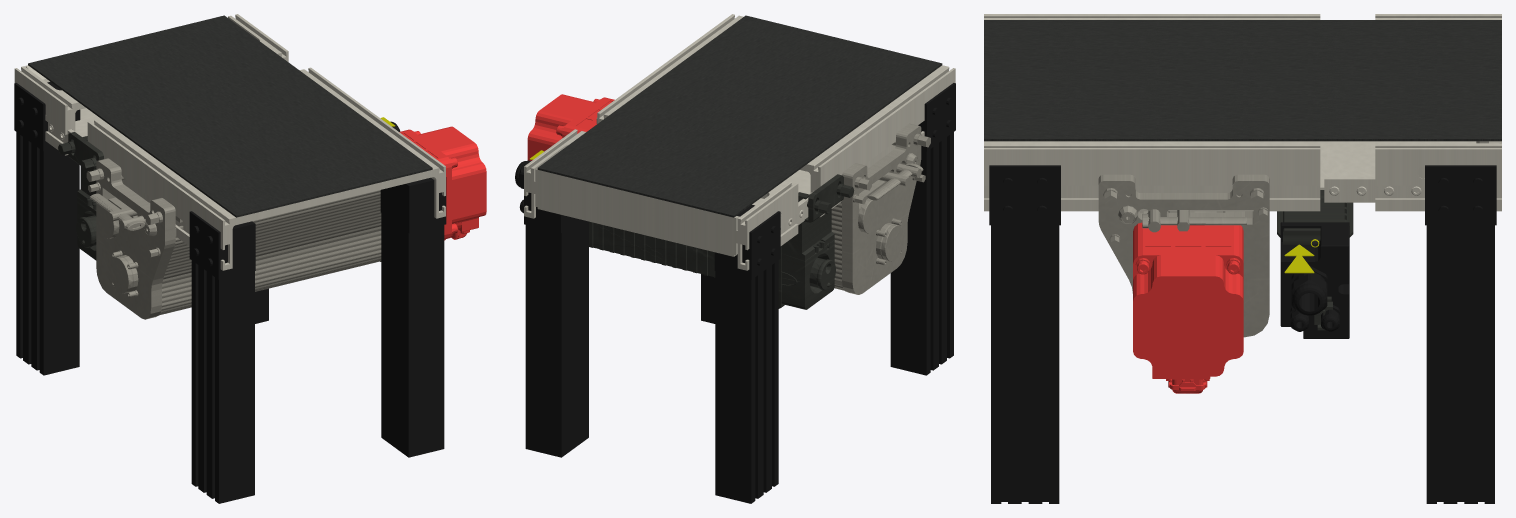
The model's file is ConveyorZone.glb.
3 renders of one model, left to right at view 1: azimuth 30°, elevation 25°; view 2: azimuth 150°, elevation 25°; view 3: azimuth 270°, elevation 25°, orthographic. The views are drawn at different scales.
Visible parts, largest first — view 1: belt, Mesh_5.001, Copy_of_Unnamed_Node_7.001, Copy_of_Copy_of_Unnamed_Node_8, Mesh_6, Mesh_5, Mesh_9.001, Mesh_0, Mesh_12, Mesh_11; view 2: belt, Mesh_6, Mesh_9, Copy_of_Unnamed_Node_7.001, Mesh_0, Mesh_5.001, Mesh_12, Mesh_5, Mesh_9.001, Mesh_11, Mesh_1, Copy_of_Copy_of_Unnamed_Node_8; view 3: belt, Mesh_9, Copy_of_Copy_of_Unnamed_Node_8, Mesh_5, Mesh_9.001, Mesh_5.001, Mesh_0, Mesh_2.001, Mesh_1, Mesh_12.
Boxes of the visible parts, left/top/right/bottom form: belt: left=28, top=15, right=432, bottom=217; Mesh_5.001: left=86, top=158, right=381, bottom=319; Copy_of_Unnamed_Node_7.001: left=189, top=211, right=255, bottom=503; Copy_of_Copy_of_Unnamed_Node_8: left=380, top=177, right=446, bottom=457; Mesh_6: left=14, top=81, right=80, bottom=375; Mesh_5: left=87, top=67, right=445, bottom=270; Mesh_9.001: left=399, top=126, right=486, bottom=240; Mesh_0: left=14, top=14, right=288, bottom=155; Mesh_12: left=76, top=167, right=96, bottom=260; Mesh_11: left=58, top=132, right=103, bottom=171; belt: left=537, top=15, right=942, bottom=217; Mesh_6: left=714, top=204, right=780, bottom=503; Mesh_9: left=524, top=192, right=588, bottom=457; Copy_of_Unnamed_Node_7.001: left=890, top=83, right=955, bottom=375; Mesh_0: left=524, top=129, right=812, bottom=270; Mesh_5.001: left=596, top=118, right=930, bottom=294; Mesh_12: left=589, top=209, right=835, bottom=309; Mesh_5: left=597, top=14, right=955, bottom=217; Mesh_9.001: left=527, top=94, right=614, bottom=160; Mesh_11: left=778, top=174, right=854, bottom=308; Mesh_1: left=537, top=170, right=810, bottom=256; Copy_of_Copy_of_Unnamed_Node_8: left=701, top=274, right=715, bottom=323; belt: left=984, top=20, right=1501, bottom=141; Mesh_9: left=1425, top=165, right=1496, bottom=503; Copy_of_Copy_of_Unnamed_Node_8: left=989, top=165, right=1060, bottom=503; Mesh_5: left=984, top=14, right=1320, bottom=211; Mesh_9.001: left=1133, top=222, right=1243, bottom=393; Mesh_5.001: left=1098, top=174, right=1269, bottom=337; Mesh_0: left=1324, top=14, right=1501, bottom=211; Mesh_2.001: left=1280, top=222, right=1349, bottom=338; Mesh_1: left=1320, top=141, right=1476, bottom=189; Mesh_12: left=1283, top=190, right=1346, bottom=330.
Bounding box in the file's own units: 0.2998 × 0.23 × 0.303.
Materials: 11 (4 with a texture image).
